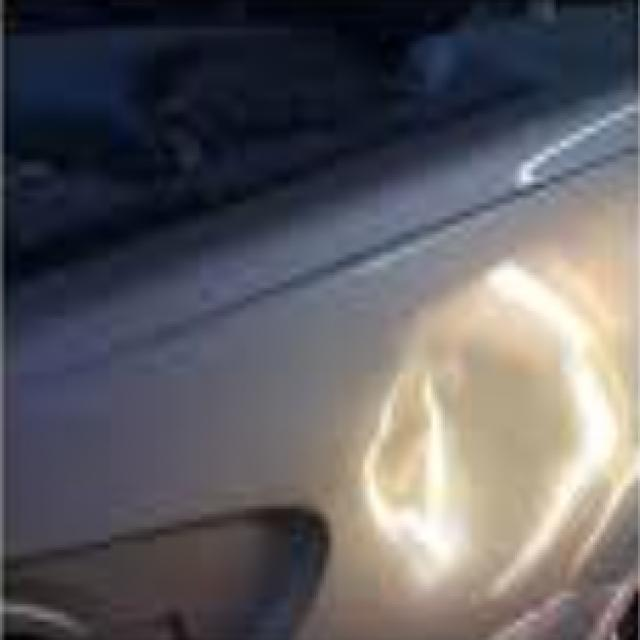dents: (368, 259, 620, 595)
